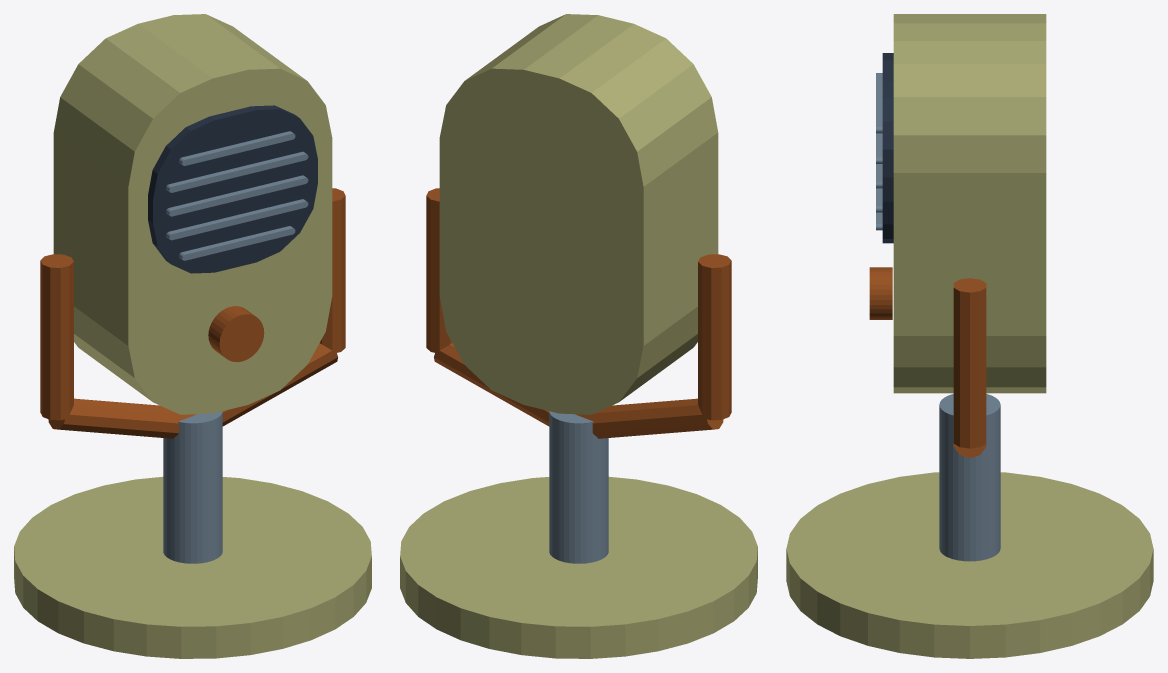
The model's file is mic.glb.
3 views of the same model, side by side, from view 1: azimuth 30°, elevation 25°; view 2: azimuth 150°, elevation 25°; view 3: azimuth 270°, elevation 25° (orthographic). The views are drawn at different scales.
Visible parts, largest first — view 1: capsule, base, grille, stand, yoke0, yoke1, yoke3, mute key, mesh bar 3, mesh bar 1, mesh bar 2, yoke2 (+2 smaller); view 2: capsule, base, stand, yoke0, yoke1, yoke3, yoke2; view 3: capsule, base, stand, yoke3, grille, mute key.
Boxes of the visible parts, x1=… form: capsule: x1=53, y1=14, x2=332, y2=414; base: x1=14, y1=476, x2=371, y2=658; grille: x1=148, y1=105, x2=317, y2=273; stand: x1=163, y1=411, x2=222, y2=563; yoke0: x1=40, y1=254, x2=73, y2=420; yoke1: x1=48, y1=398, x2=195, y2=438; yoke3: x1=320, y1=188, x2=345, y2=352; mute key: x1=208, y1=306, x2=264, y2=362; mesh bar 3: x1=166, y1=151, x2=308, y2=192; mesh bar 1: x1=166, y1=199, x2=308, y2=240; mesh bar 2: x1=166, y1=175, x2=308, y2=216; yoke2: x1=222, y1=343, x2=337, y2=426; capsule: x1=439, y1=14, x2=718, y2=414; base: x1=400, y1=476, x2=757, y2=658; stand: x1=549, y1=411, x2=608, y2=563; yoke0: x1=698, y1=254, x2=731, y2=420; yoke1: x1=576, y1=398, x2=723, y2=438; yoke3: x1=426, y1=188, x2=451, y2=352; yoke2: x1=434, y1=343, x2=549, y2=426; capsule: x1=893, y1=14, x2=1046, y2=393; base: x1=786, y1=472, x2=1153, y2=658; stand: x1=939, y1=394, x2=1000, y2=561; yoke3: x1=953, y1=278, x2=986, y2=448; grille: x1=882, y1=53, x2=893, y2=243; mute key: x1=869, y1=267, x2=892, y2=319.
Bounding box in the file's own units: 0.96 × 1.59 × 0.96.
